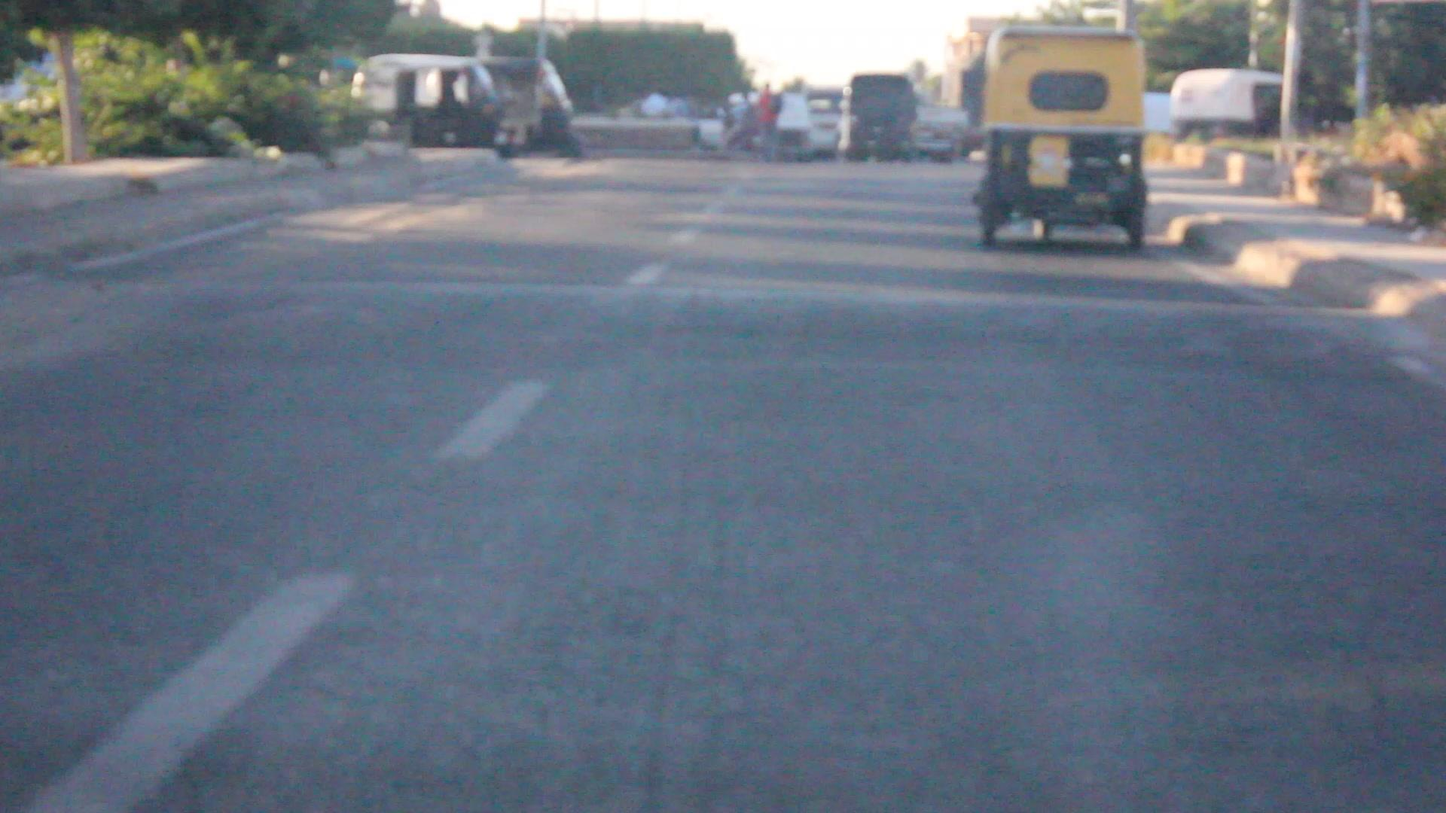Bump: (83, 294, 1446, 399)
